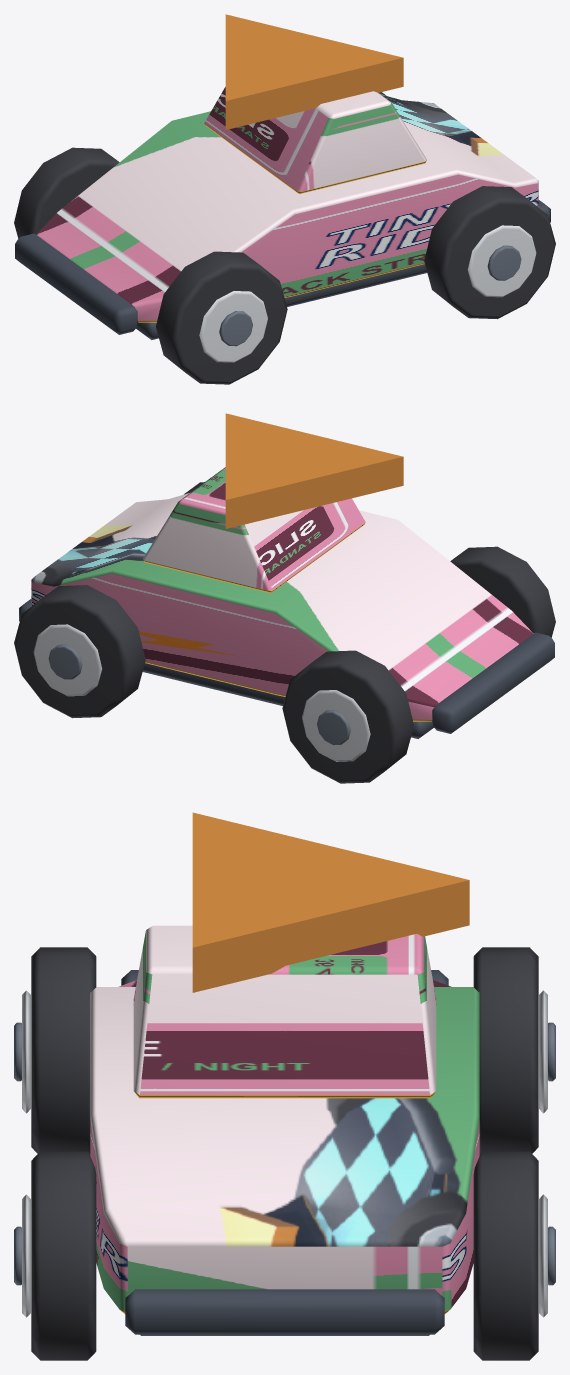
The picture shows the model from 3 angles, top to bottom: view 1: azimuth 30°, elevation 25°; view 2: azimuth 150°, elevation 25°; view 3: azimuth 270°, elevation 25°; orthographic projection. The views are drawn at different scales.
Parts seen in each view (by area): view 1: SS-02_connected_shell, SS-02_cabin, flat pizza wedge, Tire, Tire.002, Tire.001, front bumper, Rim, Rim.002, underbody, Hub.002, Hub; view 2: SS-02_connected_shell, SS-02_cabin, flat pizza wedge, Tire.001, Tire.003, Tire, front bumper, Rim.001, Rim.003, underbody, Hub.003, Hub.001; view 3: SS-02_connected_shell, SS-02_cabin, flat pizza wedge, rear bumper, Tire.002, Tire.003, Tire, Tire.001, Rim, Rim.001, Rim.002, Rim.003.
Boxes of the visible parts, left/top/right/bottom form: SS-02_connected_shell: left=36, top=94, right=538, bottom=322; SS-02_cabin: left=204, top=87, right=426, bottom=194; flat pizza wedge: left=225, top=14, right=403, bottom=129; Tire: left=156, top=251, right=287, bottom=384; Tire.002: left=424, top=186, right=555, bottom=319; Tire.001: left=14, top=147, right=119, bottom=238; front bumper: left=15, top=233, right=138, bottom=334; Rim: left=199, top=291, right=267, bottom=362; Rim.002: left=467, top=225, right=536, bottom=297; underbody: left=136, top=264, right=427, bottom=339; Hub.002: left=487, top=245, right=521, bottom=280; Hub: left=219, top=311, right=252, bottom=346; SS-02_connected_shell: left=31, top=493, right=533, bottom=721; SS-02_cabin: left=143, top=467, right=365, bottom=593; flat pizza wedge: left=225, top=413, right=403, bottom=528; Tire.001: left=282, top=650, right=413, bottom=783; Tire.003: left=14, top=585, right=145, bottom=718; Tire: left=450, top=546, right=555, bottom=637; front bumper: left=431, top=632, right=554, bottom=733; Rim.001: left=302, top=690, right=370, bottom=761; Rim.003: left=33, top=624, right=102, bottom=696; underbody: left=142, top=663, right=433, bottom=738; Hub.003: left=48, top=644, right=82, bottom=679; Hub.001: left=317, top=710, right=350, bottom=745; SS-02_connected_shell: left=90, top=980, right=479, bottom=1313; SS-02_cabin: left=133, top=925, right=436, bottom=1098; flat pizza wedge: left=192, top=812, right=469, bottom=992; rear bumper: left=125, top=1289, right=444, bottom=1334; Tire.002: left=31, top=1151, right=96, bottom=1360; Tire.003: left=473, top=1151, right=538, bottom=1360; Tire: left=31, top=947, right=96, bottom=1153; Tire.001: left=473, top=947, right=538, bottom=1153; Rim: left=22, top=990, right=30, bottom=1113; Rim.001: left=539, top=990, right=547, bottom=1113; Rim.002: left=22, top=1194, right=30, bottom=1317; Rim.003: left=539, top=1194, right=547, bottom=1317.
Size of the model in its own units: 316 by 163 by 217.
